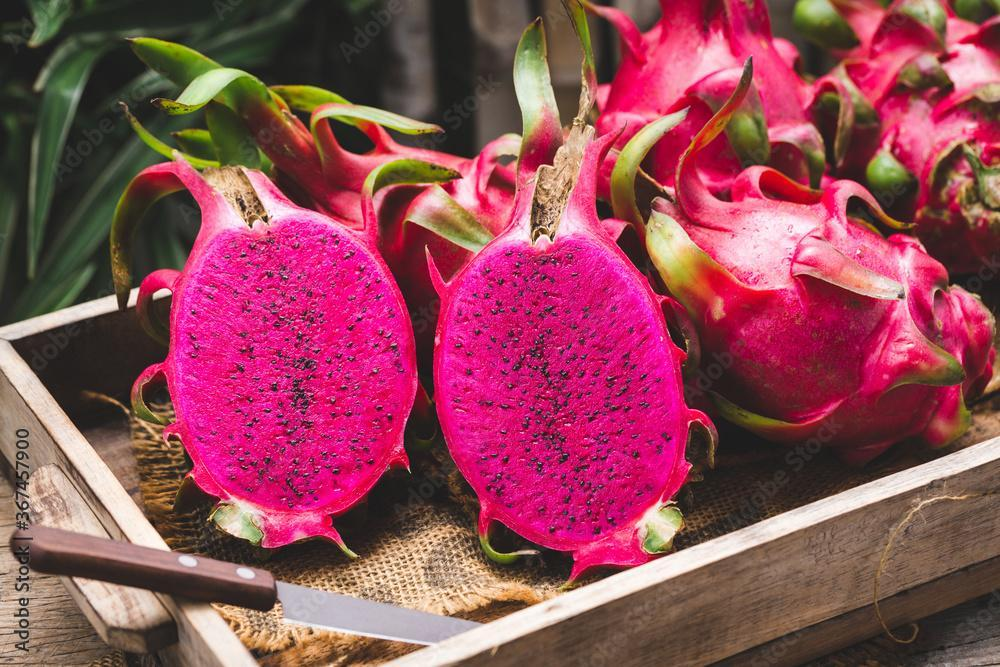dragon-fruit: (430, 228, 692, 553), (160, 207, 422, 520), (693, 197, 1000, 457), (832, 0, 1000, 272), (592, 22, 828, 212), (303, 147, 518, 295)
